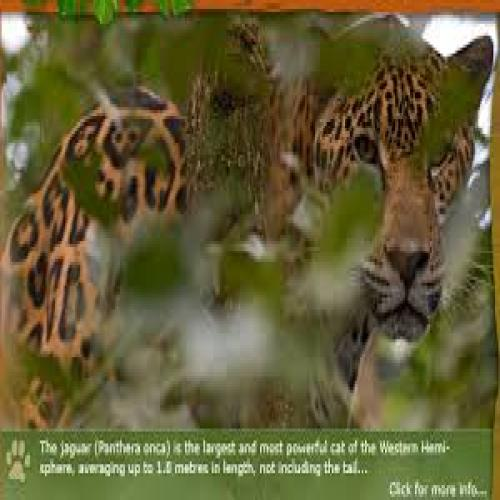jaguar_not-endangered: (0, 22, 491, 427)
